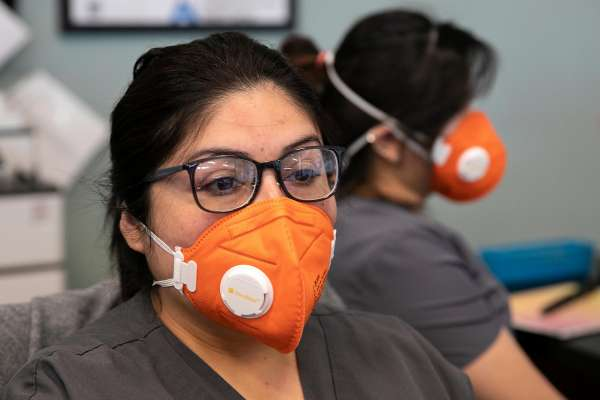n95: (169, 187, 339, 355), (436, 106, 511, 206)
